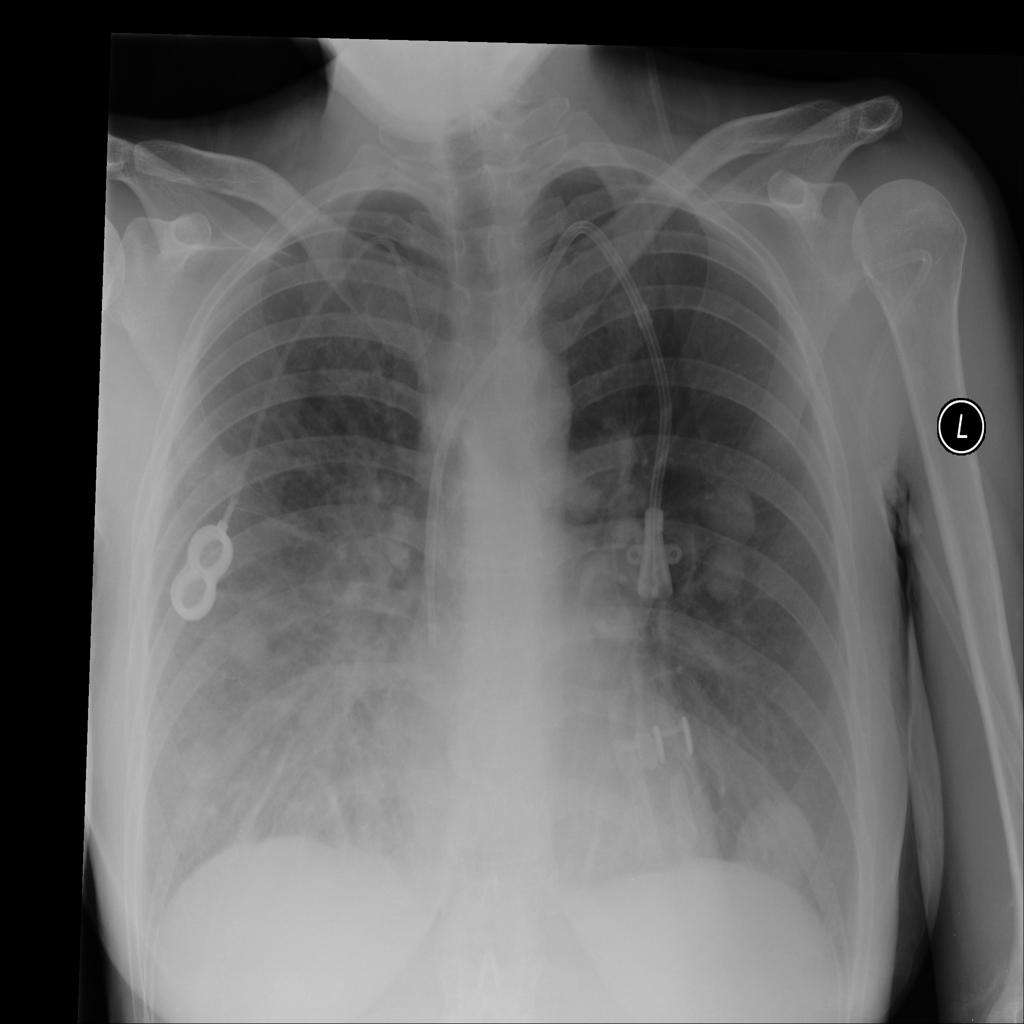nodule: (727, 782, 822, 902), (148, 731, 244, 824), (697, 467, 768, 552), (694, 534, 759, 620), (220, 604, 285, 684), (546, 464, 615, 535)
